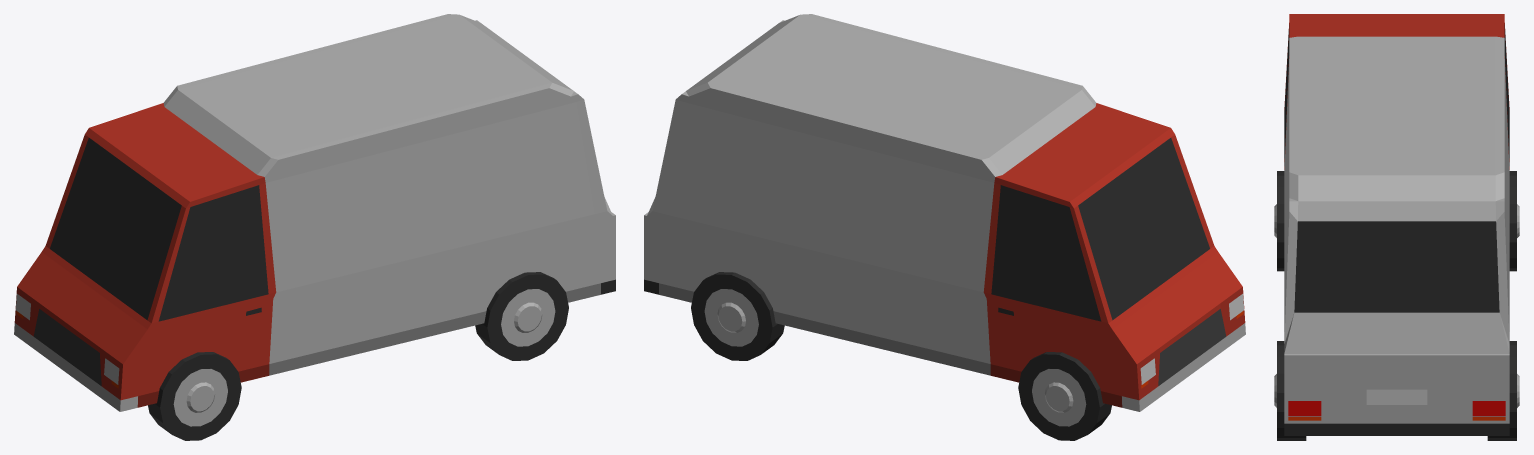
The model's file is Car3a.fbx.
3 renders of one model, left to right at view 1: azimuth 30°, elevation 25°; view 2: azimuth 150°, elevation 25°; view 3: azimuth 270°, elevation 25°, orthographic. The views are drawn at different scales.
Parts seen in each view (by area): view 1: Car3a, Car3a_FL, Car3a_RL; view 2: Car3a, Car3a_FR, Car3a_RR; view 3: Car3a, Car3a_RL, Car3a_RR, Car3a_FL, Car3a_FR.
Part boxes in pixels (left/top/right/bottom): Car3a: left=14, top=14, right=615, bottom=411; Car3a_FL: left=148, top=352, right=241, bottom=440; Car3a_RL: left=475, top=272, right=568, bottom=360; Car3a: left=644, top=14, right=1245, bottom=411; Car3a_FR: left=1018, top=352, right=1111, bottom=440; Car3a_RR: left=691, top=272, right=784, bottom=360; Car3a: left=1284, top=14, right=1509, bottom=435; Car3a_RL: left=1274, top=341, right=1306, bottom=440; Car3a_RR: left=1487, top=341, right=1519, bottom=440; Car3a_FL: left=1274, top=171, right=1284, bottom=271; Car3a_FR: left=1509, top=171, right=1519, bottom=271.
Bounding box in the file's own units: 4.2 × 2.12 × 1.69.
